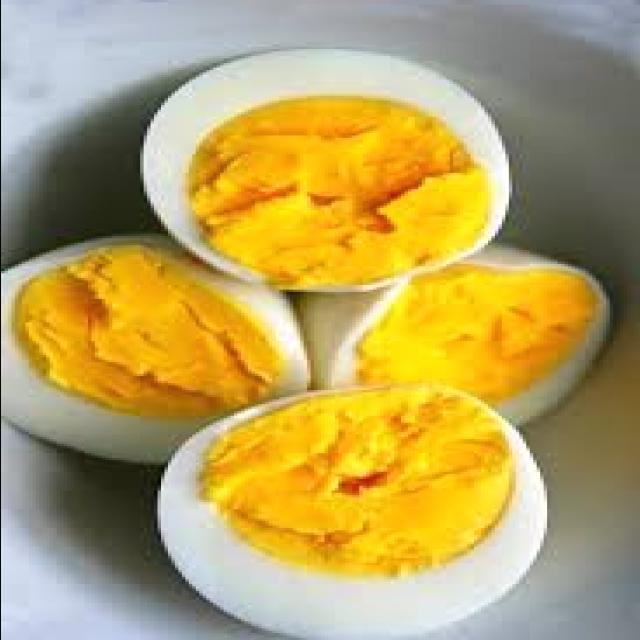telur rebus: (153, 383, 543, 633), (136, 47, 508, 287), (0, 234, 306, 462), (289, 241, 616, 430)
